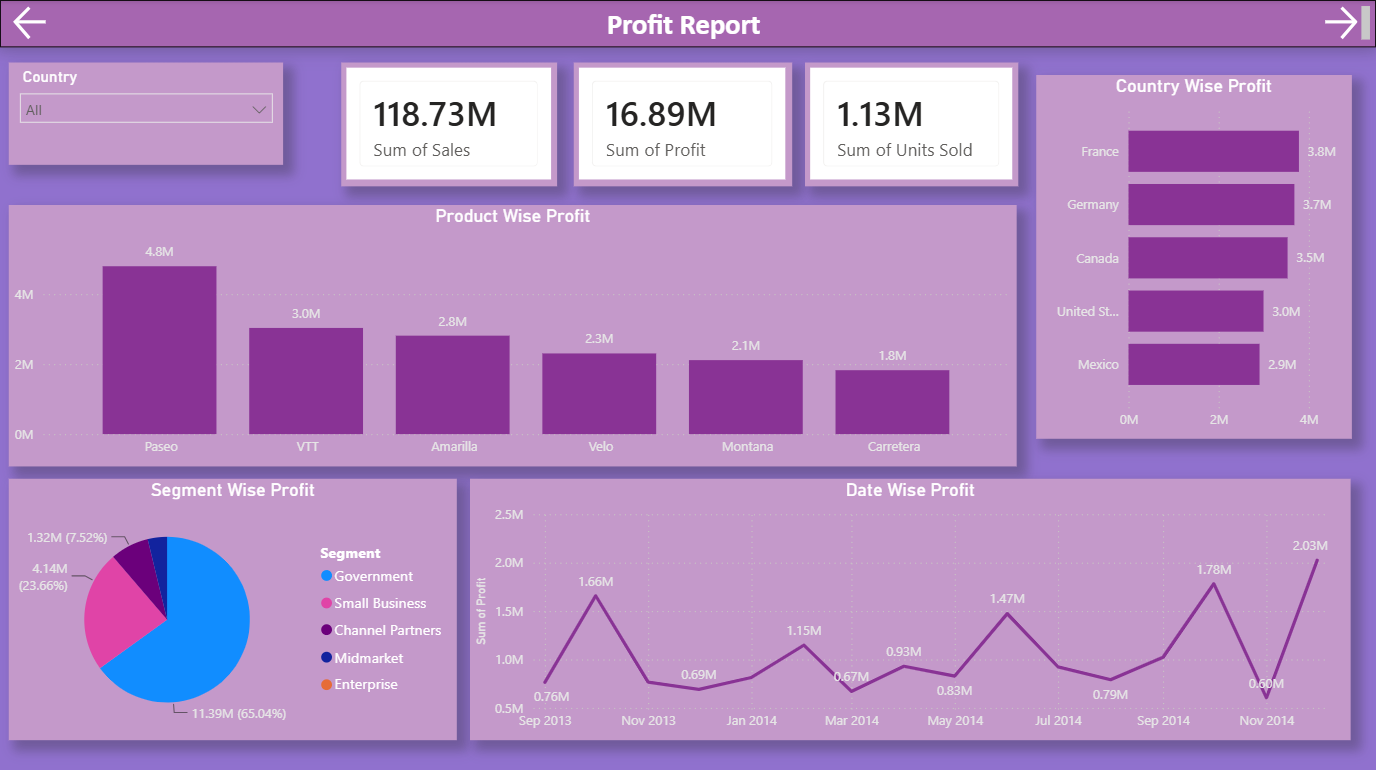

The page's visual inventory and layout, read from the dashboard file:
{"tool":"powerbi","page":{"name":"Profit Report","canvas":[1280,720],"ordinal":2},"visuals":[{"type":"textbox","box":[0,0,1280.3,44],"z":0},{"type":"slicer","fields":{"Values":["financials.Country"]},"box":[8.6,58.7,255.6,95.4],"z":1000},{"type":"cardVisual","fields":{"Data":["Sum(financials. Sales)"]},"box":[317.9,58.7,200.5,114.9],"z":2000},{"type":"cardVisual","fields":{"Data":["Sum(financials.Profit)"]},"box":[533.2,58.7,203,114.9],"z":3000},{"type":"cardVisual","fields":{"Data":["Sum(financials.Units Sold)"]},"box":[748.4,58.7,198.1,114.9],"z":4000},{"type":"columnChart","title":"Product Wise Profit","fields":{"Category":["financials.Product"],"Y":["Sum(financials.Profit)"]},"box":[8.6,190.8,937.9,243.3],"z":5000},{"type":"pieChart","title":"Segment Wise Profit","fields":{"Category":["financials.Segment"],"Y":["Sum(financials.Profit)"]},"box":[8.6,445.1,417,243.3],"z":6000},{"type":"barChart","title":"Country Wise Profit","fields":{"Category":["financials.Country"],"Y":["Sum(financials.Profit)"]},"box":[963.6,69.7,293.5,338.7],"z":7000},{"type":"lineChart","title":"Date Wise Profit","fields":{"Category":["financials.Date.Variation.Date Hierarchy.Year","financials.Date.Variation.Date Hierarchy.Quarter","financials.Date.Variation.Date Hierarchy.Month","financials.Date.Variation.Date Hierarchy.Day"],"Y":["Sum(financials.Profit)"]},"box":[437.8,445.1,819.3,243.3],"z":8000},{"type":"actionButton","box":[8.6,1.2,48.9,40.4],"z":9000},{"type":"actionButton","box":[1226.5,1.2,45.2,40.4],"z":10000}]}

Visuals, with their boxes in screenshot pixels (x1, y1, x2, y2), scaled from the page's 1280x720 canvas onto the 1376x770 screenshot:
textbox: (left=0, top=0, right=1375, bottom=47)
slicer - financials.Country: (left=9, top=63, right=284, bottom=165)
cardVisual - Sum(financials. Sales): (left=342, top=63, right=557, bottom=186)
cardVisual - Sum(financials.Profit): (left=573, top=63, right=791, bottom=186)
cardVisual - Sum(financials.Units Sold): (left=805, top=63, right=1017, bottom=186)
"Product Wise Profit" columnChart: (left=9, top=204, right=1017, bottom=464)
"Segment Wise Profit" pieChart: (left=9, top=476, right=458, bottom=736)
"Country Wise Profit" barChart: (left=1036, top=75, right=1351, bottom=437)
"Date Wise Profit" lineChart: (left=471, top=476, right=1351, bottom=736)
actionButton: (left=9, top=1, right=62, bottom=44)
actionButton: (left=1318, top=1, right=1367, bottom=44)
